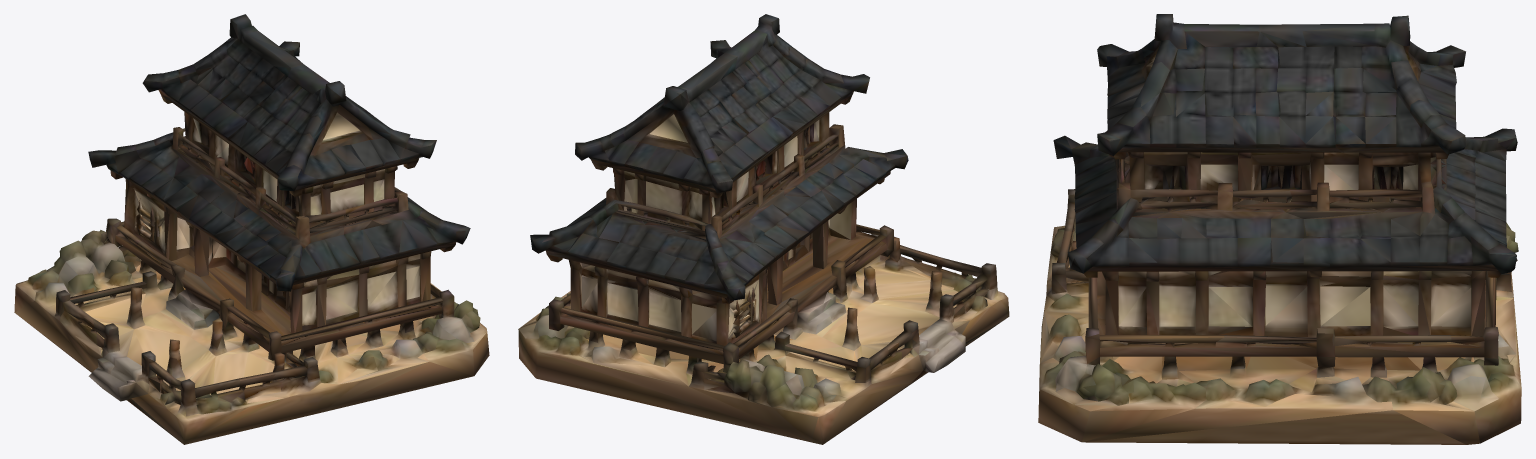
File: dojo_t3.glb
3 renders of one model, left to right at view 1: azimuth 30°, elevation 25°; view 2: azimuth 150°, elevation 25°; view 3: azimuth 270°, elevation 25°, orthographic. The views are drawn at different scales.
Visible parts, largest first — view 1: tripo_node_bf7968dd-f7d3-4765-8c92-ddd561bca9c7; view 2: tripo_node_bf7968dd-f7d3-4765-8c92-ddd561bca9c7; view 3: tripo_node_bf7968dd-f7d3-4765-8c92-ddd561bca9c7.
Part boxes in pixels (<box>): tripo_node_bf7968dd-f7d3-4765-8c92-ddd561bca9c7: <box>14,14,489,444</box>; tripo_node_bf7968dd-f7d3-4765-8c92-ddd561bca9c7: <box>518,14,1009,444</box>; tripo_node_bf7968dd-f7d3-4765-8c92-ddd561bca9c7: <box>1038,14,1521,444</box>.
Bounding box in the file's own units: 0.979 × 0.7916 × 0.9747.
Materials: 1 (1 with a texture image).
